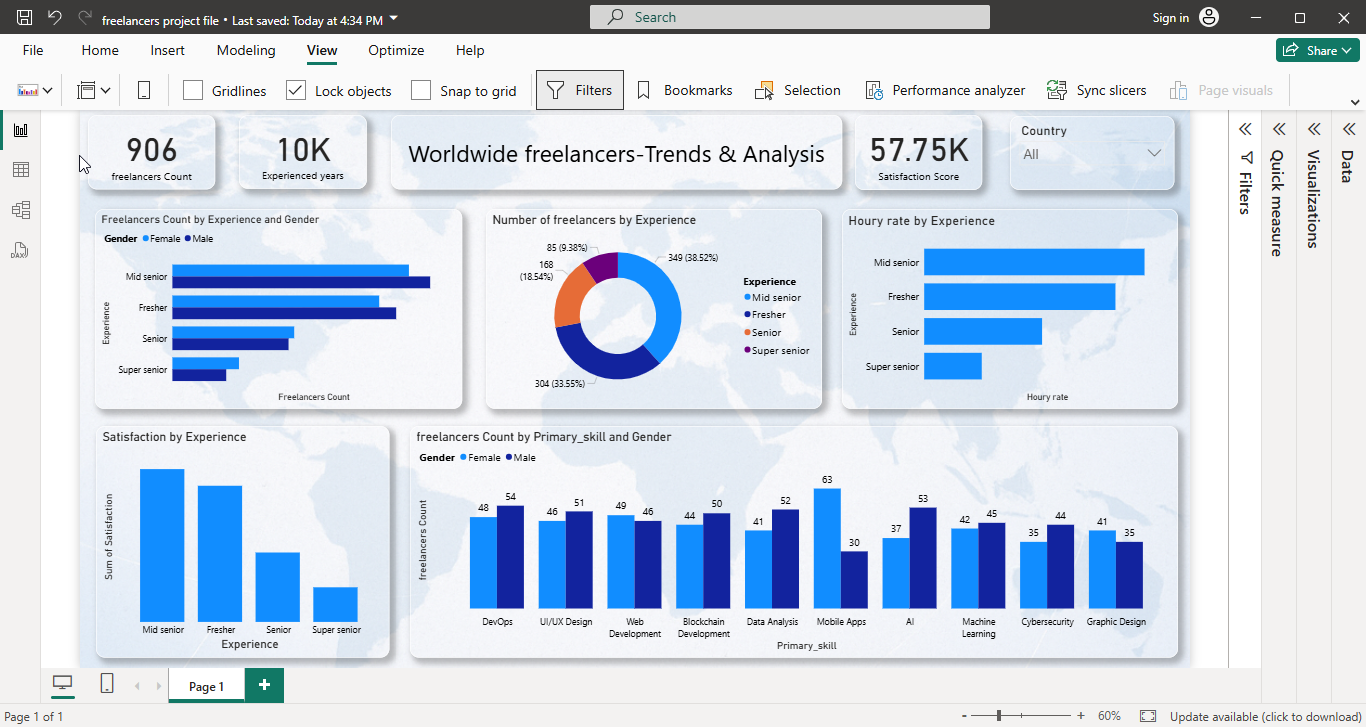

Layout of this report page (visuals, bound fields, positions):
{"tool":"powerbi","page":{"name":"Page 1","canvas":[1850,930],"ordinal":0},"visuals":[{"type":"donutChart","title":"Number of freelancers by Experience","fields":{"Category":["Table 1 (global_freelancers_raw).Experience(years) (groups)"],"Y":["CountNonNull(Table 1 (global_freelancers_raw).freelancer_ID)"]},"box":[676.4,165.7,559.7,333.1],"z":0},{"type":"columnChart","title":"Satisfaction by Experience","fields":{"Category":["Table 1 (global_freelancers_raw).Experience(years) (groups)"],"Y":["Sum(Table 1 (global_freelancers_raw).Satisfaction)"]},"box":[27.1,525.9,488.7,385.5],"z":1000},{"type":"clusteredColumnChart","fields":{"Category":["Table 1 (global_freelancers_raw).Primary_skill"],"Series":["Table 1 (global_freelancers_raw). Gender"],"Y":["CountNonNull(Table 1 (global_freelancers_raw).freelancer_ID)"]},"box":[549.5,525.9,1280,385.5],"z":2000},{"type":"barChart","fields":{"Category":["Table 1 (global_freelancers_raw).Experience(years) (groups)"],"Y":["Sum(Table 1 (global_freelancers_raw).Houry rate)"]},"box":[1269.9,165.7,559.7,333.1],"z":3000},{"type":"clusteredBarChart","title":"Freelancers Count by Experience and Gender","fields":{"Category":["Table 1 (global_freelancers_raw).Experience(years) (groups)"],"Y":["CountNonNull(Table 1 (global_freelancers_raw).freelancer_ID)"],"Series":["Table 1 (global_freelancers_raw). Gender"]},"box":[25.4,165.7,612.1,333.1],"z":4000},{"type":"card","fields":{"Values":["CountNonNull(Table 1 (global_freelancers_raw).freelancer_ID)"]},"box":[26.7,8.9,159.9,122.6],"z":5000},{"type":"card","fields":{"Values":["Sum(Table 1 (global_freelancers_raw).Experience(years))"]},"box":[207.9,10.7,284.3,122.6],"z":6000},{"type":"slicer","fields":{"Values":["Table 1 (global_freelancers_raw).Country"]},"box":[1550,10,273.3,123.3],"z":7000},{"type":"card","fields":{"Values":["Sum(Table 1 (global_freelancers_raw).Satisfaction)"]},"box":[1292.3,8.3,212.3,124.9],"z":8000},{"type":"shape","box":[518.9,8.9,751.7,124.4],"z":9000}]}

Visuals, with their boxes on the page's 1850x930 design canvas (x1, y1, x2, y2). These are canvas units, not pixel positions in the 1366x727 screenshot, which may show the page scaled, cropped or inside an application window:
"Number of freelancers by Experience" donutChart: 676, 166, 1236, 499
"Satisfaction by Experience" columnChart: 27, 526, 516, 911
clusteredColumnChart - Table 1 (global_freelancers_raw).Primary_skill x Table 1 (global_freelancers_raw). Gender: 550, 526, 1830, 911
barChart - Table 1 (global_freelancers_raw).Experience(years) (groups) x Sum(Table 1 (global_freelancers_raw).Houry rate): 1270, 166, 1830, 499
"Freelancers Count by Experience and Gender" clusteredBarChart: 25, 166, 638, 499
card - CountNonNull(Table 1 (global_freelancers_raw).freelancer_ID): 27, 9, 187, 132
card - Sum(Table 1 (global_freelancers_raw).Experience(years)): 208, 11, 492, 133
slicer - Table 1 (global_freelancers_raw).Country: 1550, 10, 1823, 133
card - Sum(Table 1 (global_freelancers_raw).Satisfaction): 1292, 8, 1505, 133
shape: 519, 9, 1271, 133
